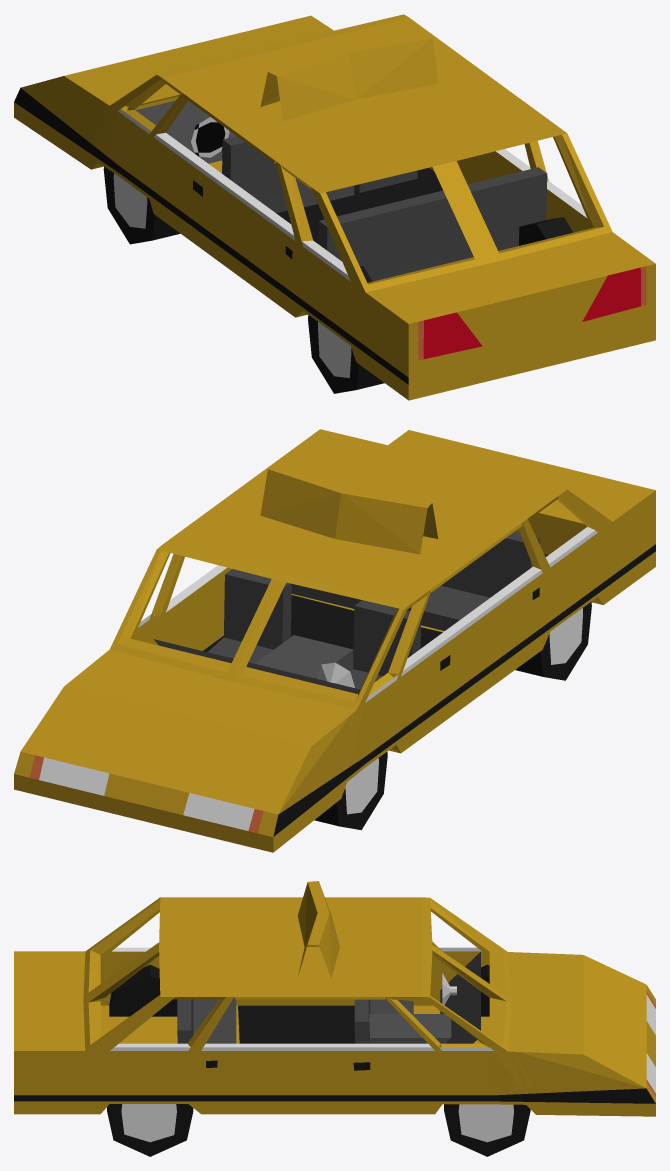
The model's file is SACRABALA.dae.
3 views of the same model, one above another, from view 1: azimuth 30°, elevation 25°; view 2: azimuth 150°, elevation 25°; view 3: azimuth 270°, elevation 25° (orthographic). The views are drawn at different scales.
Parts seen in each view (by area): view 1: Cube, Cube.004, Cube.002, Plane, Cube.001, Cube.005, Cube.003; view 2: Cube, Cube.004, Cube.003, Cube.002, Cube.005, Plane, Cube.001; view 3: Cube, Cube.005, Cube.004, Plane, Cube.003, Cube.002.
Part boxes in pixels (x1=…): Cube: x1=14, y1=14, x2=655, y2=400; Cube.004: x1=318, y1=167, x2=547, y2=281; Cube.002: x1=222, y1=136, x2=287, y2=213; Plane: x1=135, y1=100, x2=236, y2=163; Cube.001: x1=191, y1=117, x2=229, y2=157; Cube.005: x1=295, y1=178, x2=354, y2=207; Cube.003: x1=354, y1=170, x2=417, y2=192; Cube: x1=14, y1=429, x2=655, y2=852; Cube.004: x1=291, y1=532, x2=539, y2=630; Cube.003: x1=207, y1=569, x2=291, y2=663; Cube.002: x1=350, y1=600, x2=420, y2=689; Cube.005: x1=255, y1=635, x2=353, y2=678; Plane: x1=154, y1=639, x2=360, y2=694; Cube.001: x1=316, y1=662, x2=354, y2=687; Cube: x1=14, y1=881, x2=655, y2=1156; Cube.005: x1=369, y1=1014, x2=451, y2=1043; Cube.004: x1=177, y1=997, x2=236, y2=1043; Plane: x1=440, y1=951, x2=480, y2=1043; Cube.003: x1=354, y1=999, x2=370, y2=1043; Cube.002: x1=368, y1=998, x2=413, y2=1013.
Bounding box in the file's own units: 23.77 × 61.71 × 20.9.
